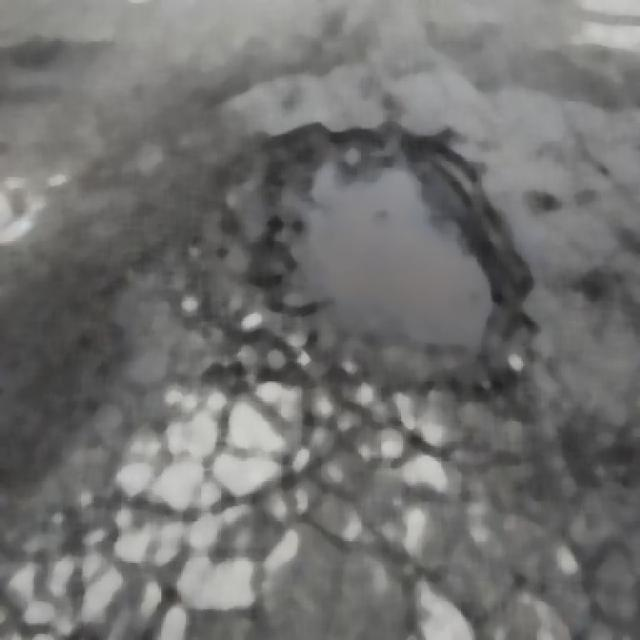Pothole: (254, 112, 514, 383)
